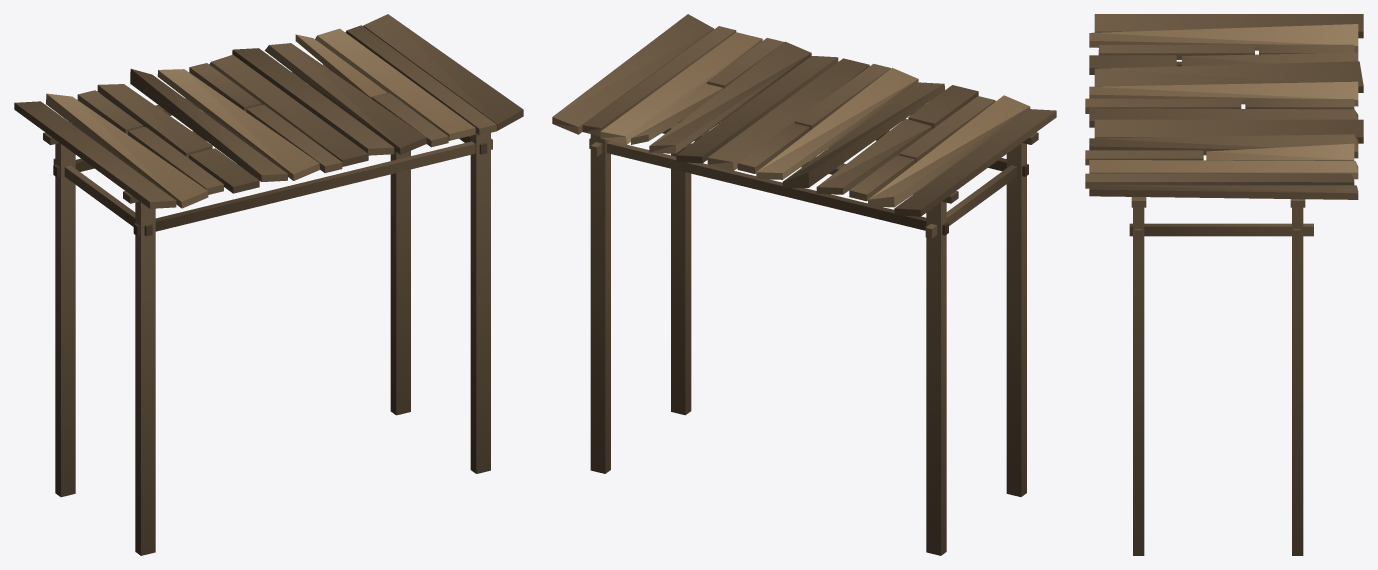
The model's file is ZLP_Build_D_8.FBX.
3 views of the same model, side by side, from view 1: azimuth 30°, elevation 25°; view 2: azimuth 150°, elevation 25°; view 3: azimuth 270°, elevation 25° (orthographic).
Visible parts, largest first — view 1: ZLP_Build_D_8; view 2: ZLP_Build_D_8; view 3: ZLP_Build_D_8.
Part boxes in pixels (<box>): ZLP_Build_D_8: <box>14,14,523,555</box>; ZLP_Build_D_8: <box>552,14,1056,555</box>; ZLP_Build_D_8: <box>1085,14,1363,555</box>.
Bounding box in the file's own units: 268 × 261 × 175.
